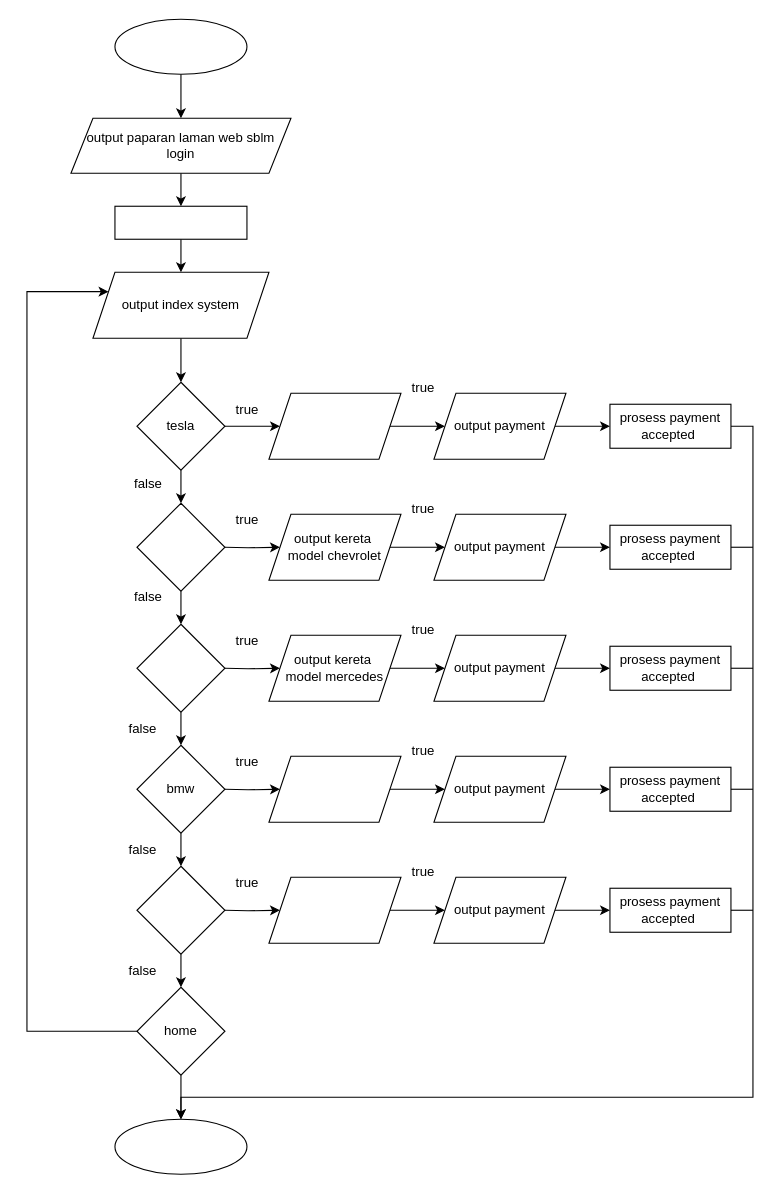
Image size: 781x1194. Some labels were removed from this diagram. The box of each missing label's shape, as (x1, y1, x2, y2) in pixels:
chevrolet: (136, 502, 225, 591)
ferarri: (136, 865, 225, 954)
mercedes: (136, 623, 225, 712)
mula: (114, 18, 247, 74)
output kereta model bmw: (268, 755, 401, 822)
output kereta model ferarri: (268, 876, 401, 943)
output kereta model tesla: (268, 392, 401, 459)
process login: (114, 205, 247, 239)
tamat: (114, 1118, 247, 1174)
